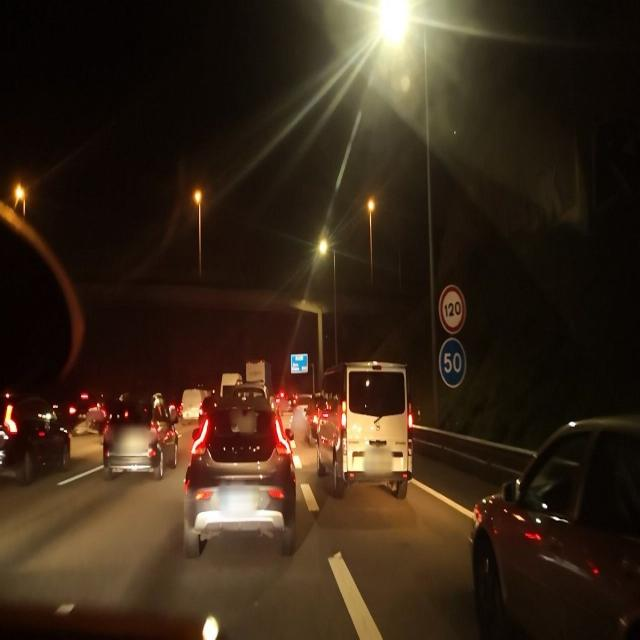car: (469, 413, 640, 639), (183, 392, 297, 558), (316, 361, 414, 500), (0, 389, 72, 486), (102, 393, 178, 481), (86, 393, 110, 432), (245, 358, 272, 392), (180, 388, 206, 423), (306, 393, 322, 440), (197, 394, 219, 426), (220, 372, 244, 396)
